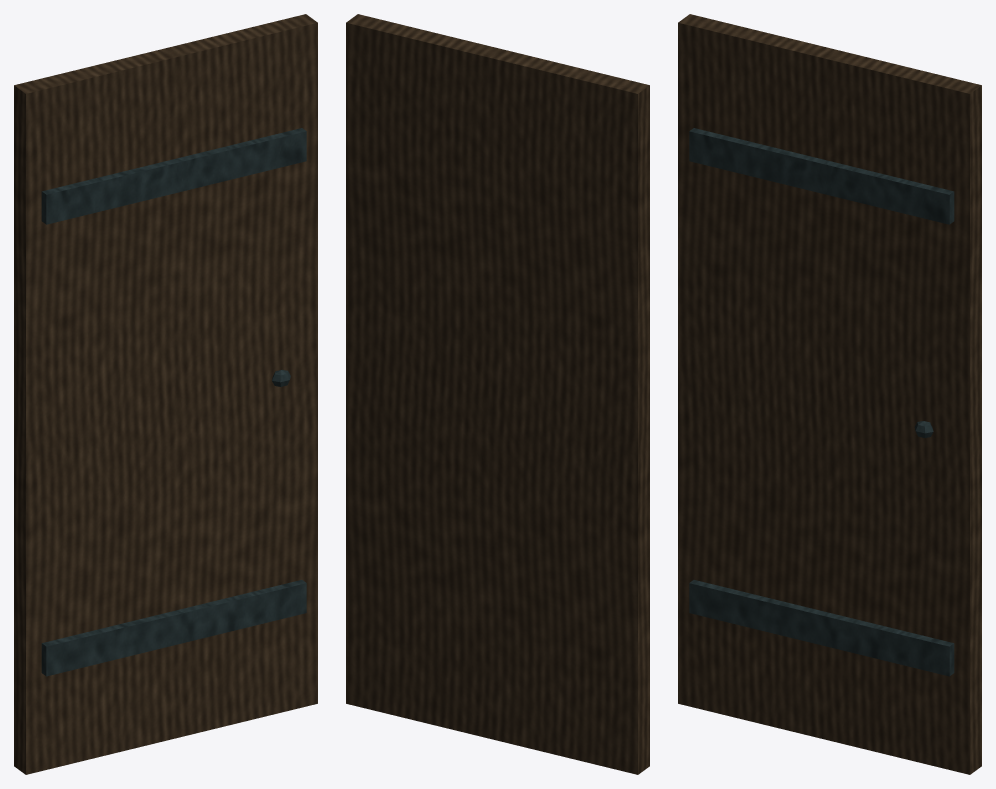
File: Door_Timber_0p92x2p05.glb
3 renders of one model, left to right at view 1: azimuth 30°, elevation 25°; view 2: azimuth 150°, elevation 25°; view 3: azimuth 330°, elevation 25°, orthographic.
Parts seen in each view (by area): view 1: Door_Timber_0p92x2p05; view 2: Door_Timber_0p92x2p05; view 3: Door_Timber_0p92x2p05.
Boxes of the visible parts, x1=… form: Door_Timber_0p92x2p05: x1=14, y1=14, x2=317, y2=774; Door_Timber_0p92x2p05: x1=346, y1=14, x2=649, y2=774; Door_Timber_0p92x2p05: x1=678, y1=14, x2=981, y2=774.
Size of the model in its own units: 0.92 by 2.05 by 0.1113.
2 materials, 2 textured.
